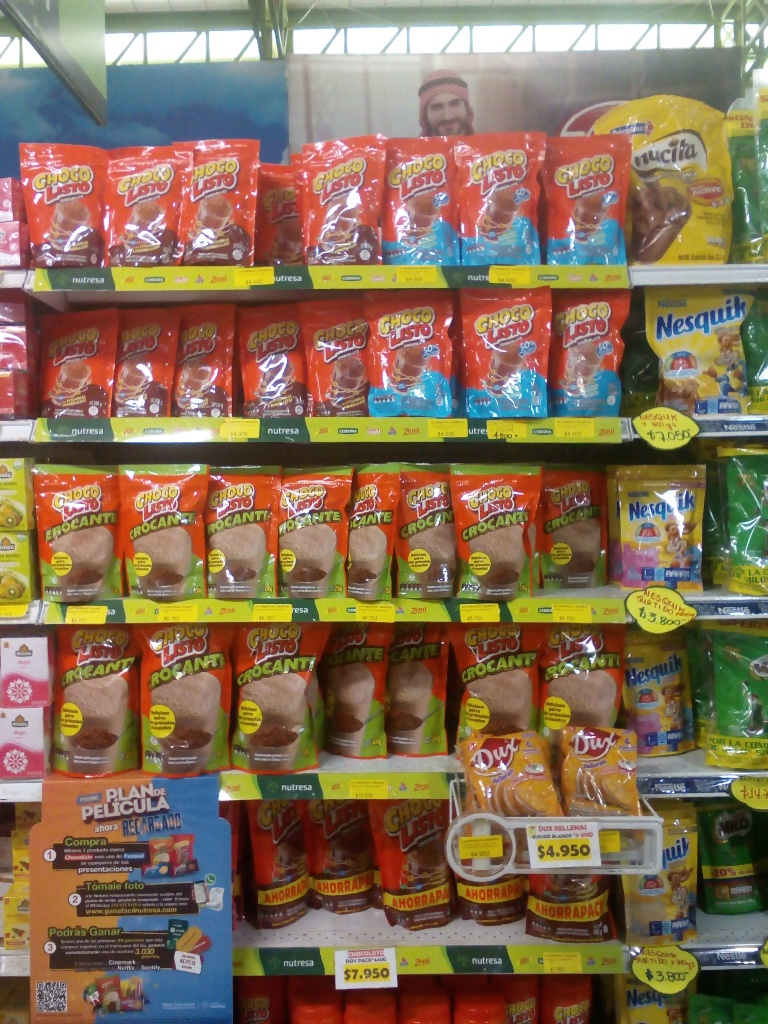COL0170102DYP25000: (26, 455, 121, 604)
COL0170102DYP50000: (36, 618, 141, 787)
COL0170103DYP44000: (238, 798, 309, 928)
COL0170104DYP20000: (377, 137, 462, 266)
COL0170203DYP25000: (696, 801, 761, 921)
COL0170203DYP50000: (705, 624, 767, 770)
COL0170305DYP20000: (610, 460, 709, 585)
COL0170306DYP20000: (613, 804, 704, 941)
